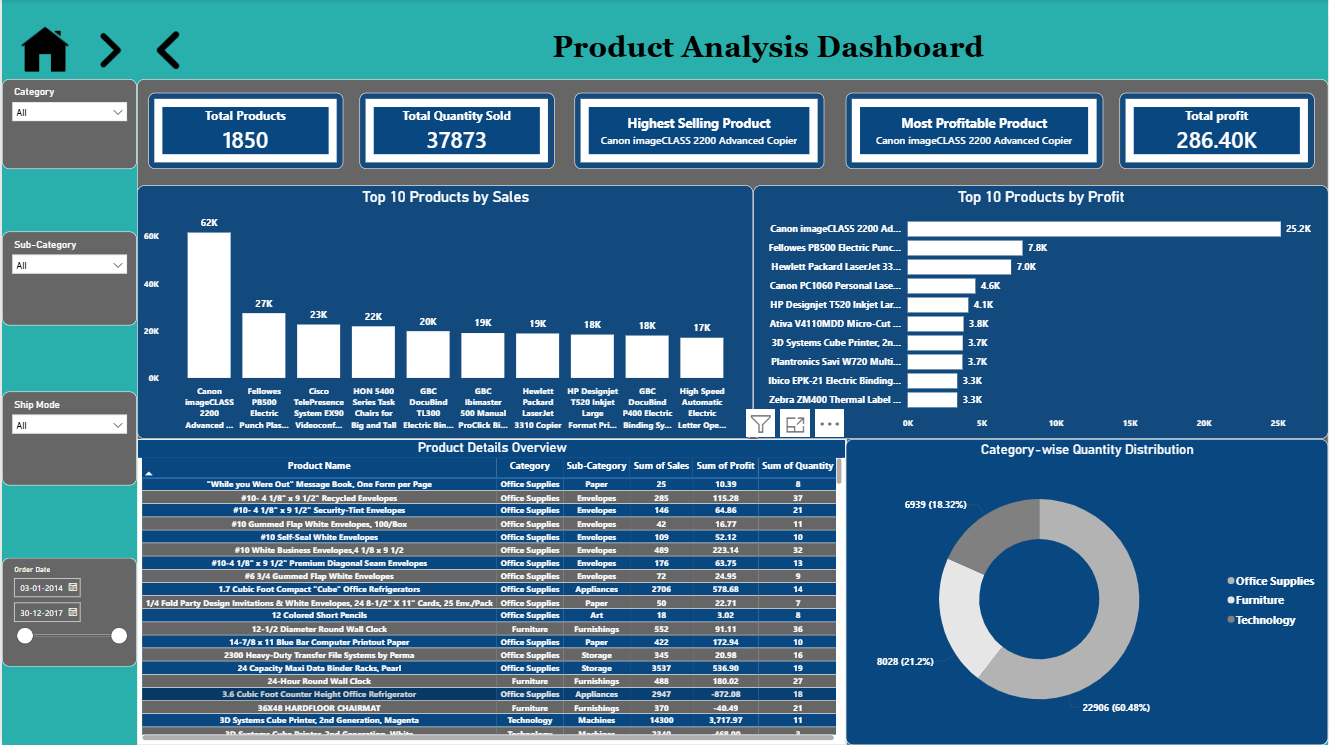

This screenshot's page, from the dashboard's own definition file:
{"tool":"powerbi","page":{"name":"Page 2","canvas":[1920,1080],"ordinal":1},"visuals":[{"type":"textbox","box":[195.4,115.8,1724.6,964.5],"z":0},{"type":"textbox","box":[586.3,39.8,1046,76],"z":1000},{"type":"cardVisual","fields":{"Data":["'Sales Data$'FilterDatabase.Total Products"]},"box":[211.7,135.7,282.3,110.4],"z":2000},{"type":"cardVisual","fields":{"Data":["Sum('Sales Data$'FilterDatabase.Quantity)"]},"box":[517.6,135.7,282.3,110.4],"z":3000},{"type":"cardVisual","fields":{"Data":["'Sales Data$'FilterDatabase.Highest Selling Product"]},"box":[828.8,135.7,361.9,110.4],"z":4000},{"type":"cardVisual","fields":{"Data":["'Sales Data$'FilterDatabase.Most Profitable Product"]},"box":[1221.5,135.7,372.8,110.4],"z":5000},{"type":"cardVisual","fields":{"Data":["'Sales Data$'FilterDatabase.Total profit"]},"box":[1617.8,135.7,282.3,110.4],"z":6000},{"type":"slicer","fields":{"Values":["'Sales Data$'FilterDatabase.Category"]},"box":[0,115.8,195.4,130.3],"z":7000},{"type":"slicer","fields":{"Values":["'Sales Data$'FilterDatabase.Sub-Category"]},"box":[0,336.6,195.4,135.7],"z":8000},{"type":"slicer","fields":{"Values":["'Sales Data$'FilterDatabase.Ship Mode"]},"box":[0,568.2,195.4,135.7],"z":9000},{"type":"slicer","fields":{"Values":["'Sales Data$'FilterDatabase.Order Date"]},"box":[0,808.9,195.4,157.4],"z":10000},{"type":"image","box":[28,33,70,83],"z":12000},{"type":"image","box":[98,37,119,76],"z":13000},{"type":"image","box":[168,33,144,83],"z":14000},{"type":"clusteredColumnChart","title":"Top 10 Products by Sales","fields":{"Category":["'Sales Data$'FilterDatabase.Product Name"],"Y":["Sum('Sales Data$'FilterDatabase.Sales)"]},"box":[195.4,269.6,892.2,367.4],"z":15000},{"type":"clusteredBarChart","title":"Top 10 Products by Profit","fields":{"Category":["'Sales Data$'FilterDatabase.Product Name"],"Y":["Sum('Sales Data$'FilterDatabase.Profit)"]},"box":[1087.6,269.6,832.4,367.4],"z":16000},{"type":"tableEx","title":"Product Details Overview","fields":{"Values":["'Sales Data$'FilterDatabase.Product Name","'Sales Data$'FilterDatabase.Category","'Sales Data$'FilterDatabase.Sub-Category","Sum('Sales Data$'FilterDatabase.Sales)","Sum('Sales Data$'FilterDatabase.Profit)","Sum('Sales Data$'FilterDatabase.Quantity)"]},"box":[195,637,1027,443],"z":17000},{"type":"donutChart","title":"Category-wise Quantity Distribution","fields":{"Y":["Sum('Sales Data$'FilterDatabase.Quantity)"],"Category":["'Sales Data$'FilterDatabase.Category"]},"box":[1222,637,698,443],"z":18001}]}

Visuals, with their boxes in screenshot pixels (x1, y1, x2, y2), scaled from the page's 1920x1080 canvas onto the 1329x745 screenshot:
textbox: select_region(135, 80, 1328, 744)
textbox: select_region(406, 27, 1130, 80)
cardVisual - 'Sales Data$'FilterDatabase.Total Products: select_region(147, 94, 342, 170)
cardVisual - Sum('Sales Data$'FilterDatabase.Quantity): select_region(358, 94, 554, 170)
cardVisual - 'Sales Data$'FilterDatabase.Highest Selling Product: select_region(574, 94, 824, 170)
cardVisual - 'Sales Data$'FilterDatabase.Most Profitable Product: select_region(846, 94, 1104, 170)
cardVisual - 'Sales Data$'FilterDatabase.Total profit: select_region(1120, 94, 1315, 170)
slicer - 'Sales Data$'FilterDatabase.Category: select_region(0, 80, 135, 170)
slicer - 'Sales Data$'FilterDatabase.Sub-Category: select_region(0, 232, 135, 326)
slicer - 'Sales Data$'FilterDatabase.Ship Mode: select_region(0, 392, 135, 486)
slicer - 'Sales Data$'FilterDatabase.Order Date: select_region(0, 558, 135, 667)
image: select_region(19, 23, 68, 80)
image: select_region(68, 26, 150, 78)
image: select_region(116, 23, 216, 80)
"Top 10 Products by Sales" clusteredColumnChart: select_region(135, 186, 753, 439)
"Top 10 Products by Profit" clusteredBarChart: select_region(753, 186, 1328, 439)
"Product Details Overview" tableEx: select_region(135, 439, 846, 744)
"Category-wise Quantity Distribution" donutChart: select_region(846, 439, 1328, 744)
